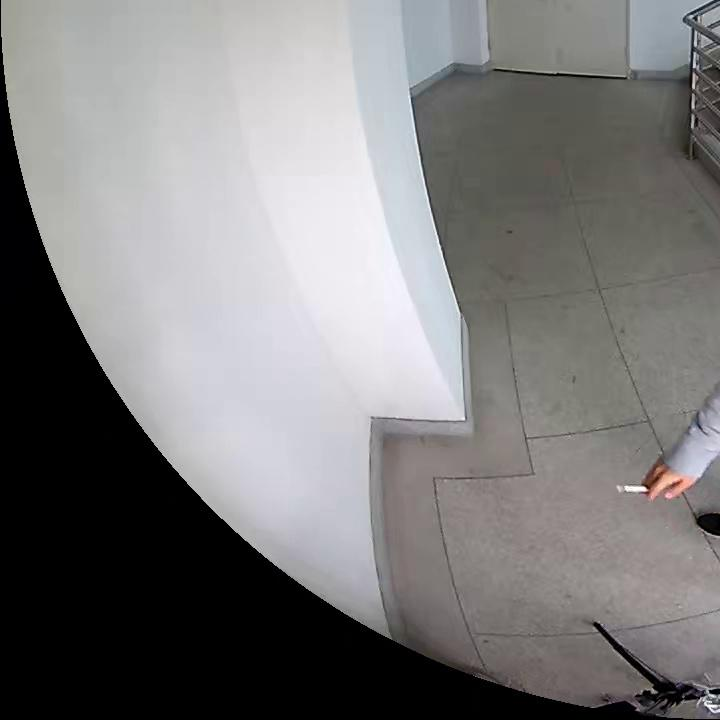handsmoke: (616, 457, 695, 505)
